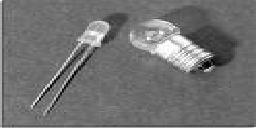LED: (31, 19, 111, 115), (126, 19, 219, 79)
